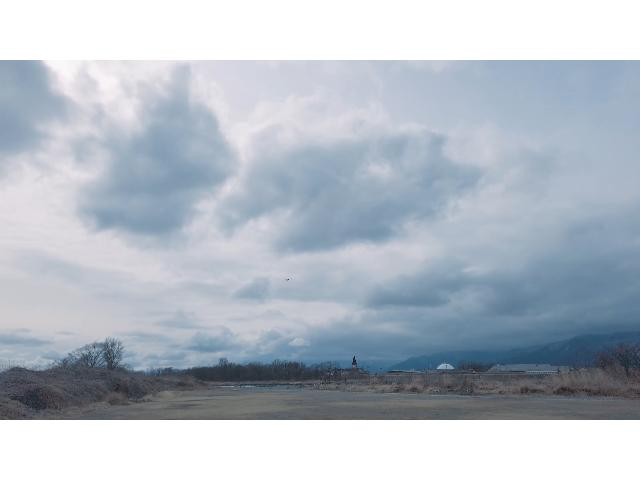Anti-Drone: (282, 275, 292, 283)
